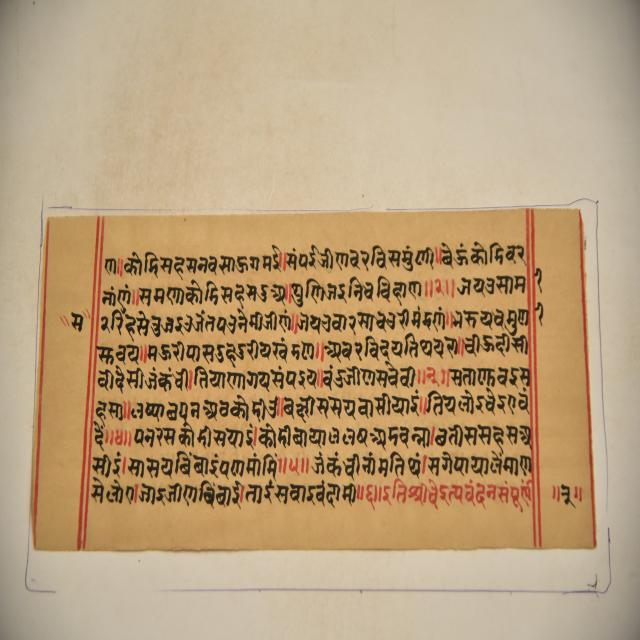text_paragraph: (26, 210, 597, 548)
